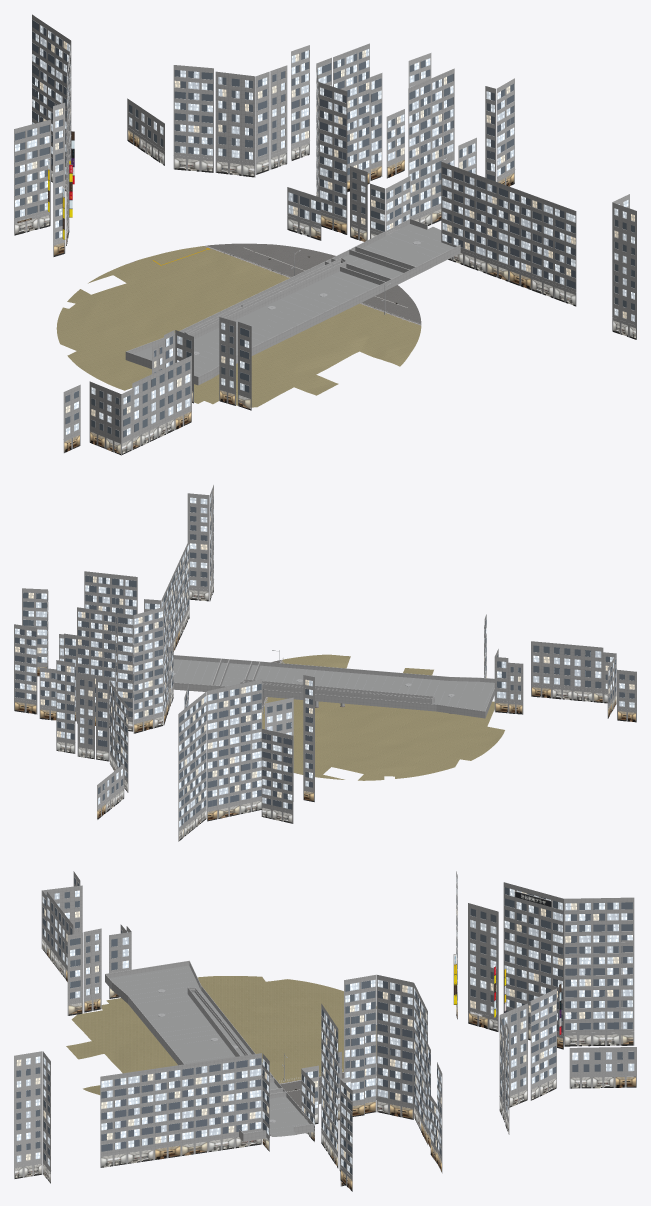
File: miyamasu.glb
The picture shows the model from 3 angles, top to bottom: view 1: azimuth 30°, elevation 25°; view 2: azimuth 150°, elevation 25°; view 3: azimuth 270°, elevation 25°; orthographic projection. The views are drawn at different scales.
Visible parts, largest first — view 1: miyamasu_wall_grey_c2_1, miyamasu_wall_grey_c3_-1, miyamasu_win_glass_c2_1, miyamasu_win_glass_c3_-1, miyamasu_wall_grey_c-2_-2, miyamasu_win_glass_c1_3, miyamasu_ground_paver_c-2_0, miyamasu_ground_paver_c0_1, miyamasu_ground_paver_c-1_1, miyamasu_wall_grey_c-3_-3, miyamasu_win_glass_c3_1, miyamasu_wall_grey_c2_3 (+57 smaller); view 2: miyamasu_win_glass_c-1_3, miyamasu_wall_clad_c-1_3, miyamasu_wall_grey_c2_2, miyamasu_win_glass_c2_2, miyamasu_ground_paver_c-1_0, miyamasu_win_glass_c0_4, miyamasu_ground_paver_c-2_0, miyamasu_wall_grey_c2_1, miyamasu_wall_grey_c-2_-2, miyamasu_wall_grey_c-3_-3, miyamasu_wall_cream_c3_-3, miyamasu_wall_clad_c0_4 (+41 smaller); view 3: miyamasu_wall_clad_c0_4, miyamasu_win_glass_c0_4, miyamasu_win_glass_c2_1, miyamasu_wall_grey_c3_-1, miyamasu_wall_grey_c2_1, miyamasu_win_glass_c-1_3, miyamasu_win_glass_c3_-1, miyamasu_wall_cream_c3_-3, miyamasu_wall_clad_c-1_3, miyamasu_ground_paver_c-2_0, miyamasu_ground_paver_c-1_0, miyamasu_wall_grey_c-2_-2 (+52 smaller).
Boxes of the visible parts, x1,y1,x2,y2 form: miyamasu_wall_grey_c2_1: [317, 73, 418, 240]; miyamasu_wall_grey_c3_-1: [460, 170, 576, 292]; miyamasu_win_glass_c2_1: [317, 82, 418, 228]; miyamasu_win_glass_c3_-1: [465, 177, 537, 274]; miyamasu_wall_grey_c-2_-2: [152, 317, 248, 430]; miyamasu_win_glass_c1_3: [174, 70, 248, 158]; miyamasu_ground_paver_c-2_0: [57, 313, 155, 366]; miyamasu_ground_paver_c0_1: [152, 246, 270, 292]; miyamasu_ground_paver_c-1_1: [88, 260, 194, 312]; miyamasu_wall_grey_c-3_-3: [105, 367, 168, 455]; miyamasu_win_glass_c3_1: [415, 74, 475, 213]; miyamasu_wall_grey_c2_3: [244, 65, 287, 177]; miyamasu_win_glass_c-1_3: [219, 683, 292, 809]; miyamasu_wall_clad_c-1_3: [217, 679, 293, 823]; miyamasu_wall_grey_c2_2: [77, 608, 160, 733]; miyamasu_win_glass_c2_2: [82, 612, 148, 719]; miyamasu_ground_paver_c-1_0: [320, 716, 418, 757]; miyamasu_win_glass_c0_4: [179, 696, 206, 827]; miyamasu_ground_paver_c-2_0: [383, 733, 481, 772]; miyamasu_wall_grey_c2_1: [125, 575, 170, 728]; miyamasu_wall_grey_c-2_-2: [484, 618, 552, 714]; miyamasu_wall_grey_c-3_-3: [545, 643, 616, 711]; miyamasu_wall_cream_c3_-3: [187, 485, 213, 601]; miyamasu_wall_clad_c0_4: [178, 692, 206, 841]; miyamasu_wall_clad_c0_4: [564, 897, 634, 1046]; miyamasu_win_glass_c0_4: [565, 902, 632, 1029]; miyamasu_win_glass_c2_1: [313, 979, 399, 1130]; miyamasu_wall_grey_c3_-1: [142, 1057, 233, 1160]; miyamasu_wall_grey_c2_1: [321, 974, 400, 1141]; miyamasu_win_glass_c-1_3: [480, 887, 550, 1023]; miyamasu_win_glass_c3_-1: [147, 1063, 233, 1144]; miyamasu_wall_cream_c3_-3: [14, 1051, 50, 1183]; miyamasu_wall_clad_c-1_3: [503, 882, 563, 1039]; miyamasu_ground_paver_c-2_0: [230, 978, 314, 1011]; miyamasu_ground_paver_c-1_0: [230, 1010, 314, 1044]; miyamasu_wall_grey_c-2_-2: [65, 916, 131, 1013].
Bounding box in the file's own units: 189 × 48.76 × 179.
25 materials, 17 textured.
